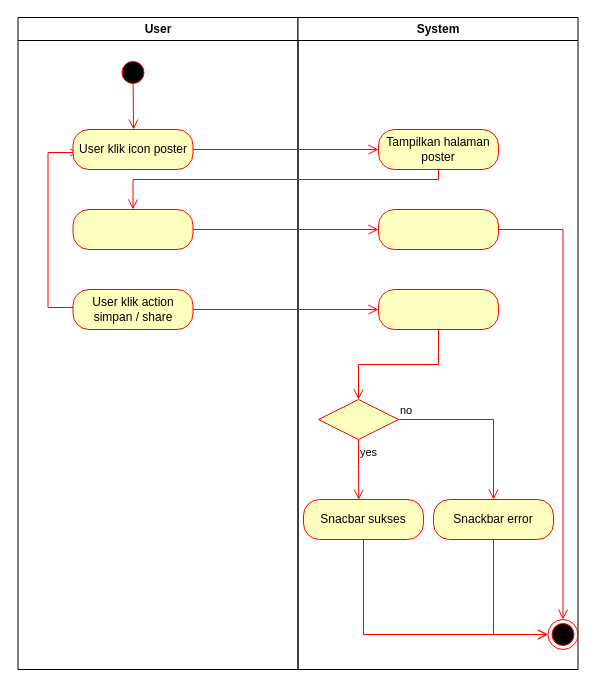
This 595x687 diagram has some shape labels left out. The shapes that lost their labels are listed below. From the top down, each one's centre as x and y in pixels, then its label:
At (x=132, y=229): "User klik gambar poster".
At (x=438, y=229): "Tampil halaman detail poster".
At (x=438, y=309): "Lakukan penyimpanan internal atau bagikan".
At (x=358, y=419): "Berhasil".
